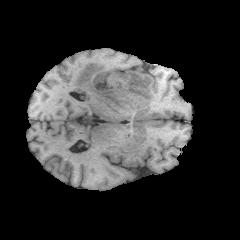glioma: (70, 63, 152, 113)
